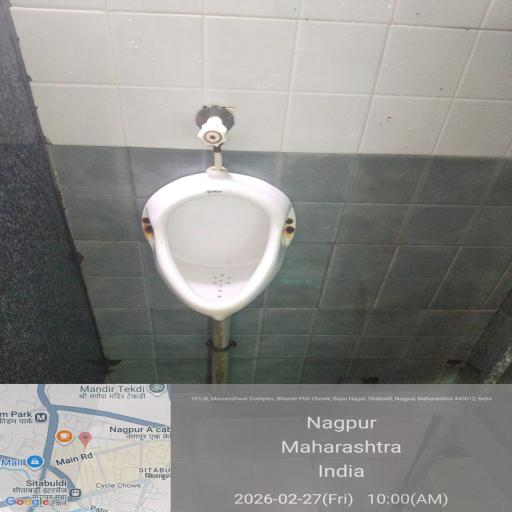clean_floor: (40, 16, 448, 135)
clean_urinal: (139, 173, 312, 327)
partial_dirty_floor: (92, 333, 508, 505)
